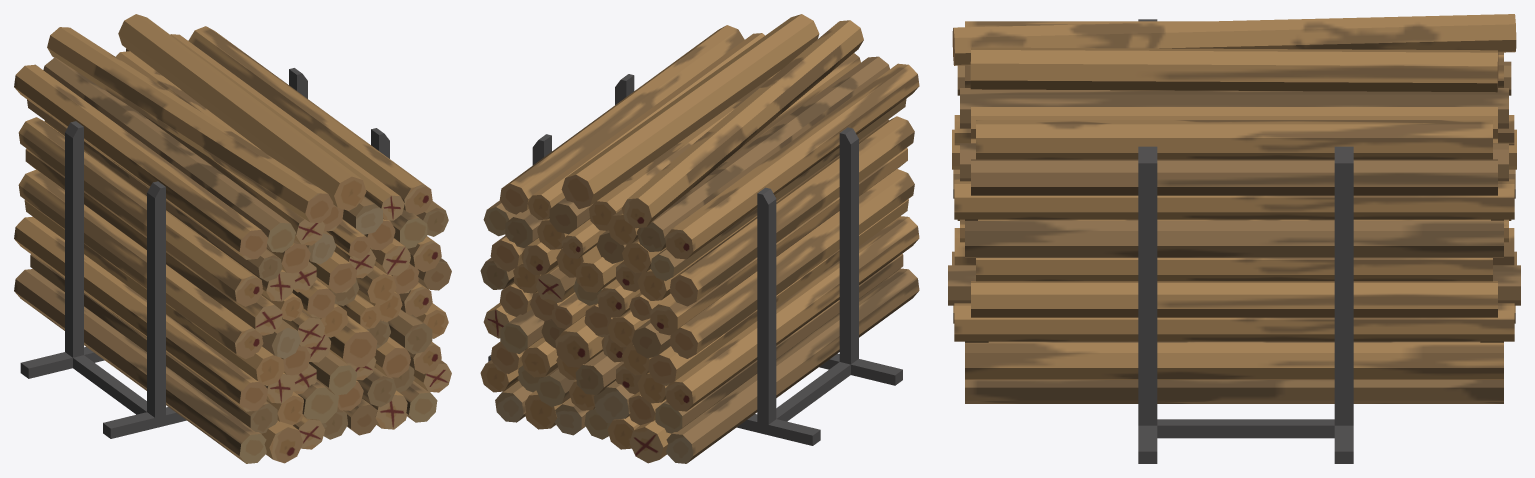
File: SM_Prop_LogPile_Preset_Small_02.fbx
3 renders of one model, left to right at view 1: azimuth 30°, elevation 25°; view 2: azimuth 150°, elevation 25°; view 3: azimuth 270°, elevation 25°, orthographic. The views are drawn at different scales.
Parts seen in each view (by area): view 1: SM_Prop_LogPile_Preset_Small_02; view 2: SM_Prop_LogPile_Preset_Small_02; view 3: SM_Prop_LogPile_Preset_Small_02.
Boxes of the visible parts, x1,y1,x2,y2 form: SM_Prop_LogPile_Preset_Small_02: (14, 14, 451, 463); SM_Prop_LogPile_Preset_Small_02: (480, 14, 919, 463); SM_Prop_LogPile_Preset_Small_02: (948, 14, 1520, 463).
Bounding box in the file's own units: 791 × 635 × 1015.
